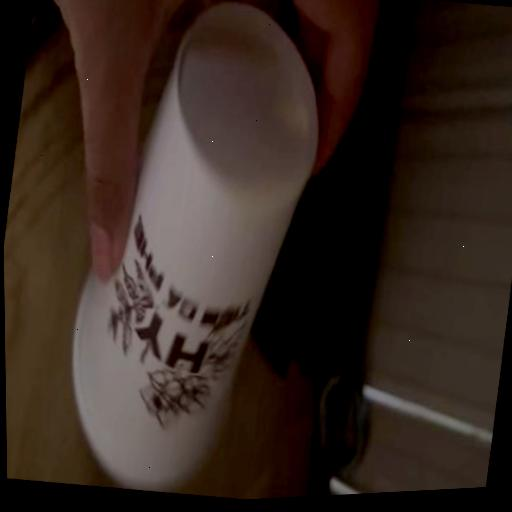ly_giay: (72, 4, 317, 491)
